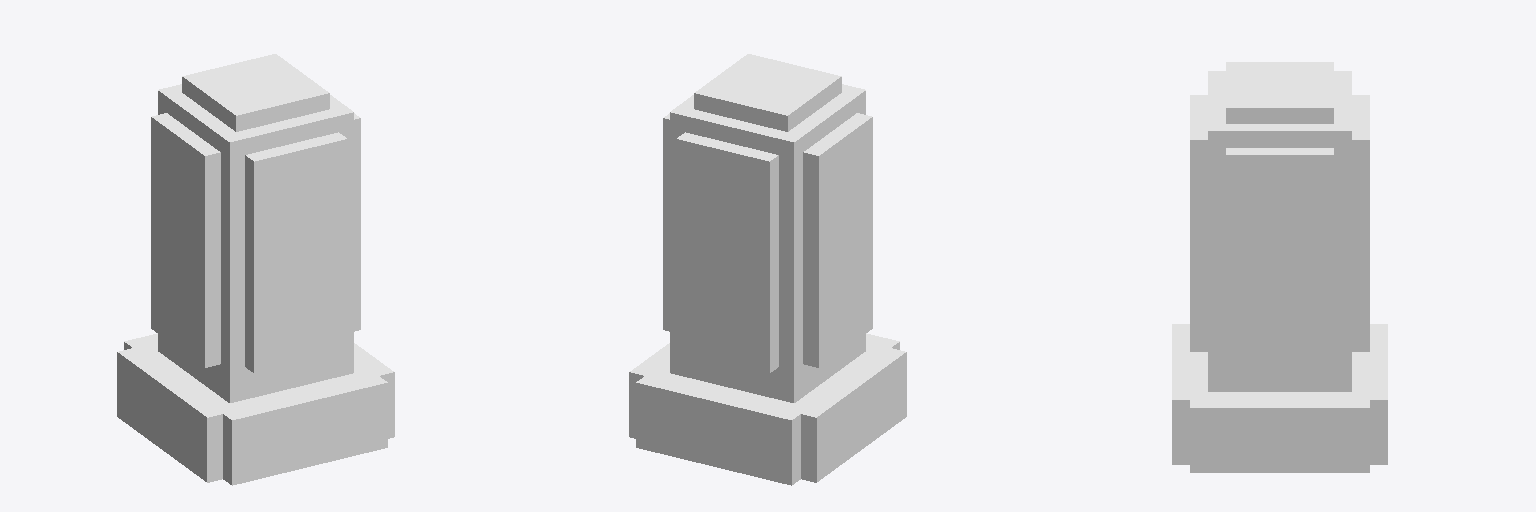
File: wall.red.obj
3 renders of one model, left to right at view 1: azimuth 30°, elevation 25°; view 2: azimuth 150°, elevation 25°; view 3: azimuth 270°, elevation 25°, orthographic.
Parts seen in each view (by area): view 1: object 1; view 2: object 1; view 3: object 1.
Boxes of the visible parts, box(x1,y1,x2,y2) form: object 1: box(117, 54, 394, 485); object 1: box(629, 54, 906, 485); object 1: box(1172, 62, 1387, 472).
Bounding box in the file's own units: 1.2 × 2.1 × 1.2.